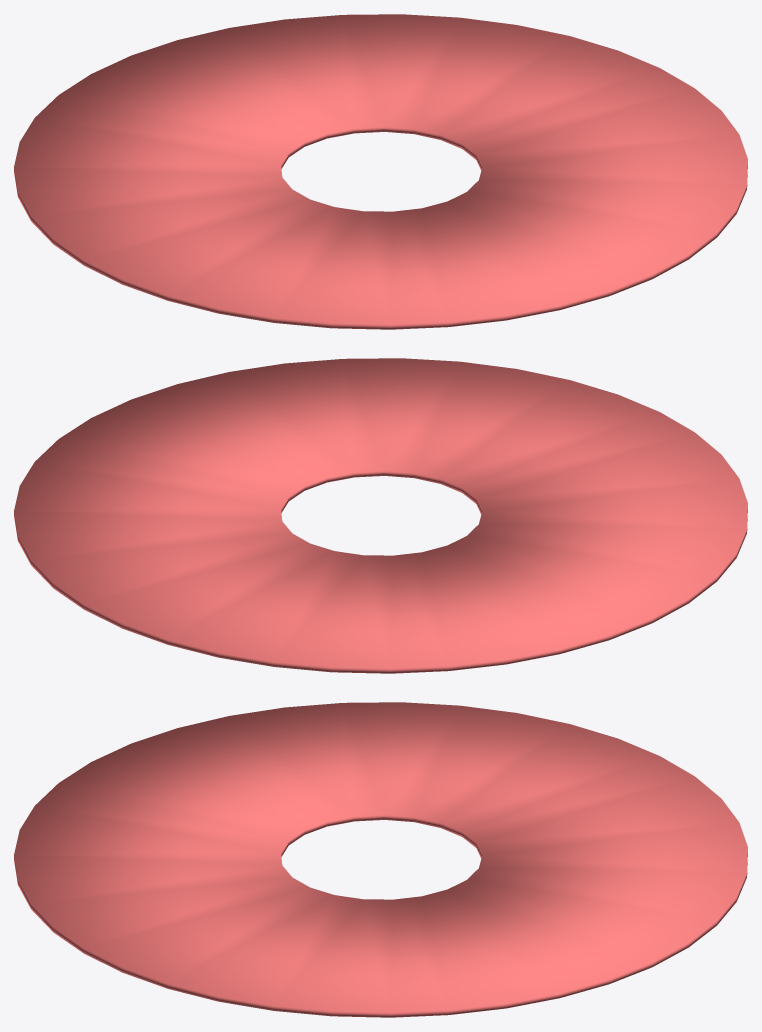
File: solo12_hip_fe_fr_15.obj
The picture shows the model from 3 angles, top to bottom: view 1: azimuth 30°, elevation 25°; view 2: azimuth 150°, elevation 25°; view 3: azimuth 270°, elevation 25°; orthographic projection.
Size of the model in its own units: 0.0255 by 0.0002 by 0.0255.
